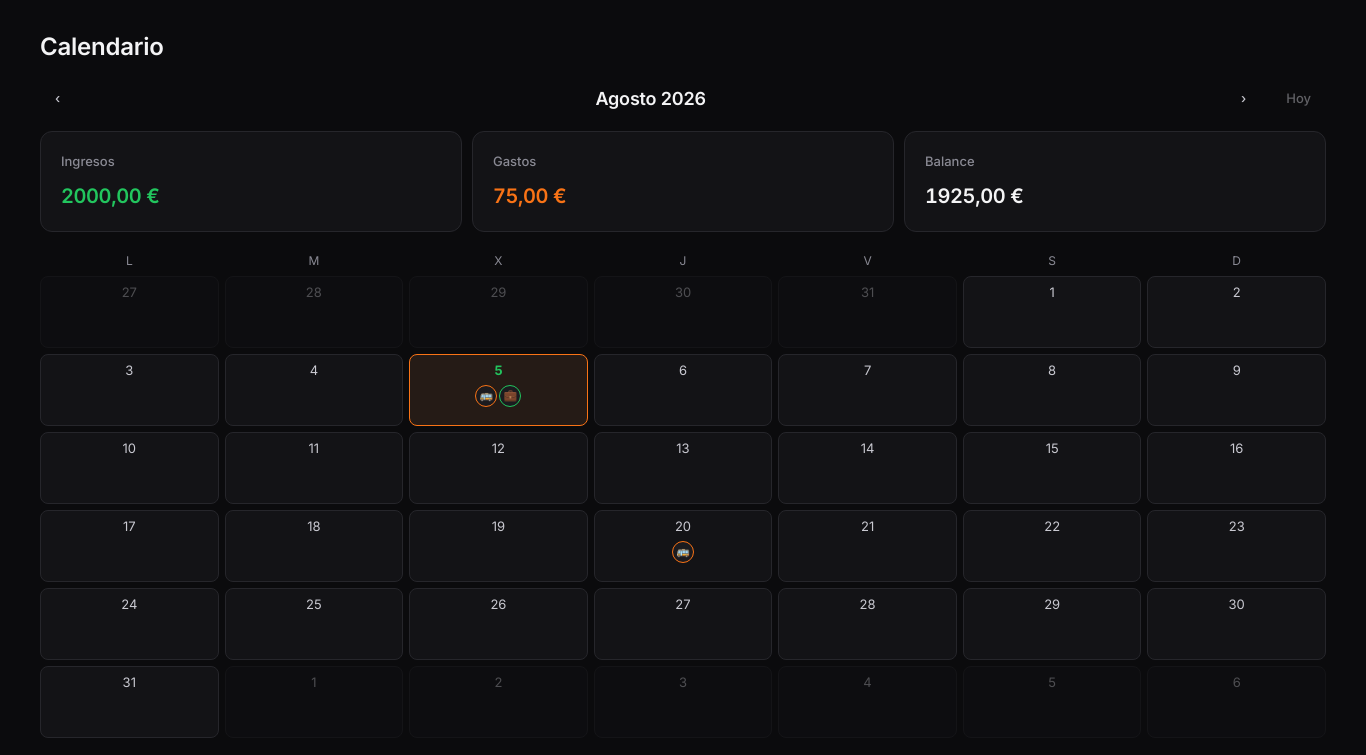
Test: CalendarPage › el botón de mes siguiente carga septiembre y selecciona el día 1
Click the button named "Mes siguiente" at (1244, 99), box [1226,82,1261,116]
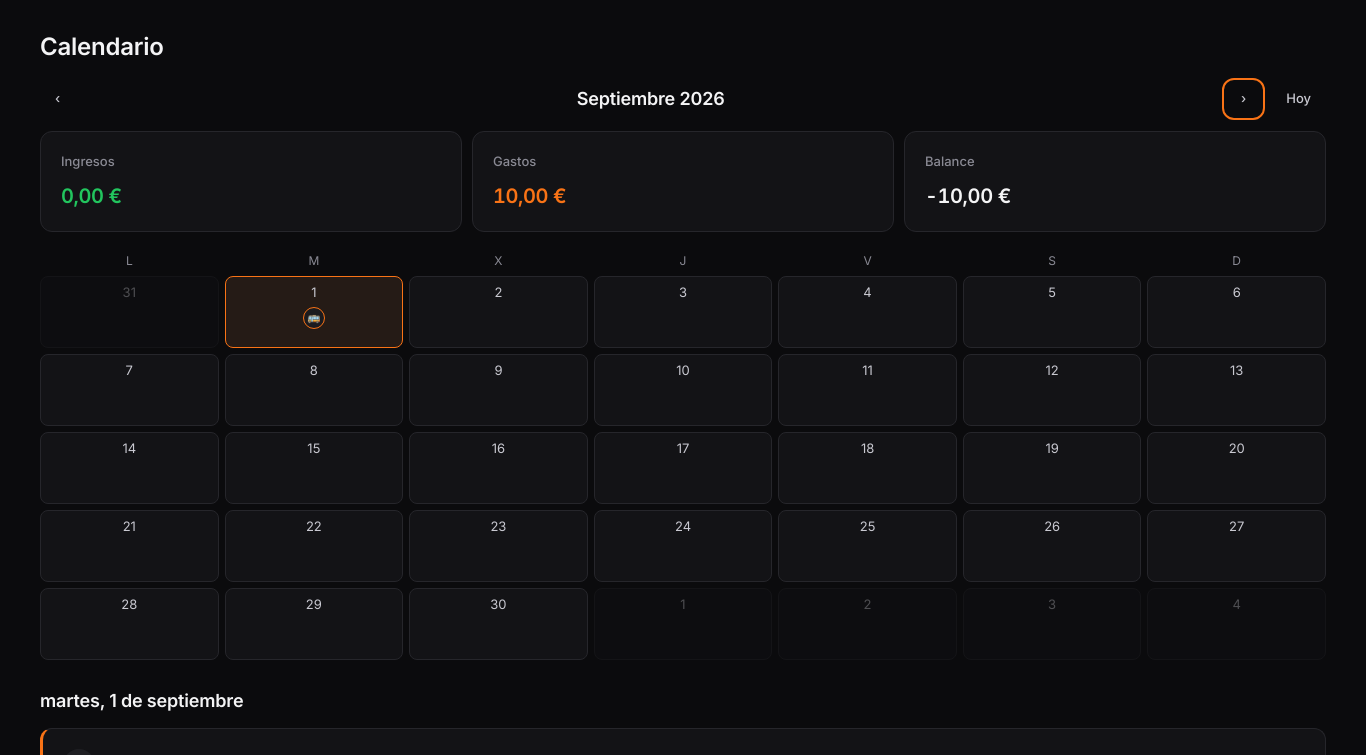
Expected: the heading "septiembre 2026" is shown, [577,88,724,108]
